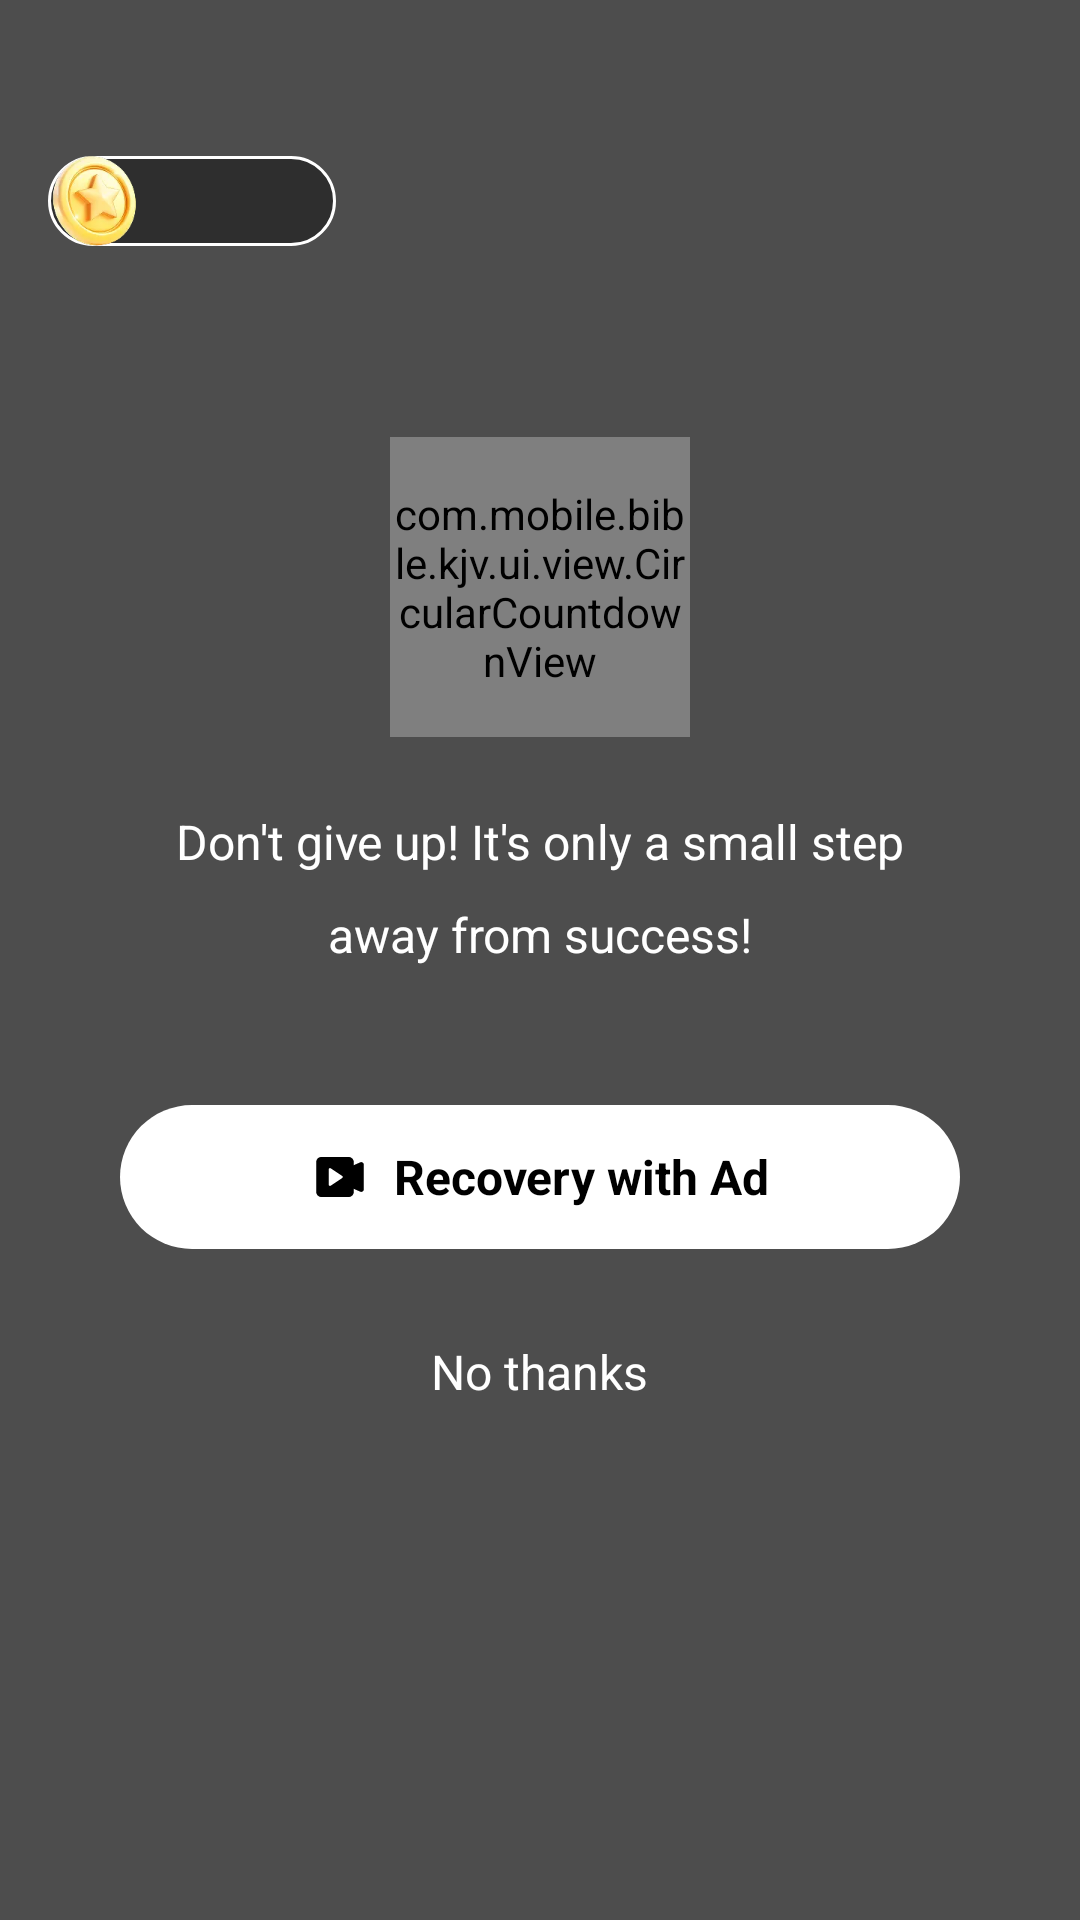

Named icons in this screenshot (1080 x 1920) and their bounding boxes, {"x1": x1, "y1": y1, "x2": x2, "y2": y2}:
kjv coin: {"x1": 48, "y1": 156, "x2": 138, "y2": 246}
rewarded ad: {"x1": 316, "y1": 1157, "x2": 364, "y2": 1197}
